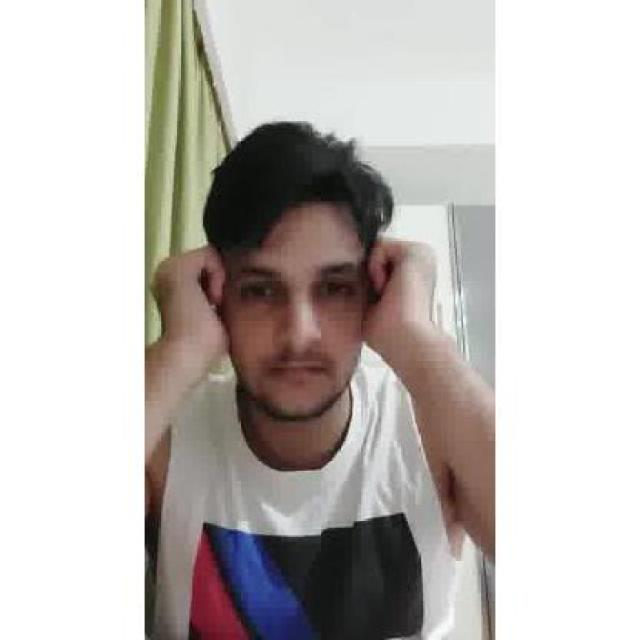attentif: (210, 120, 368, 422)
